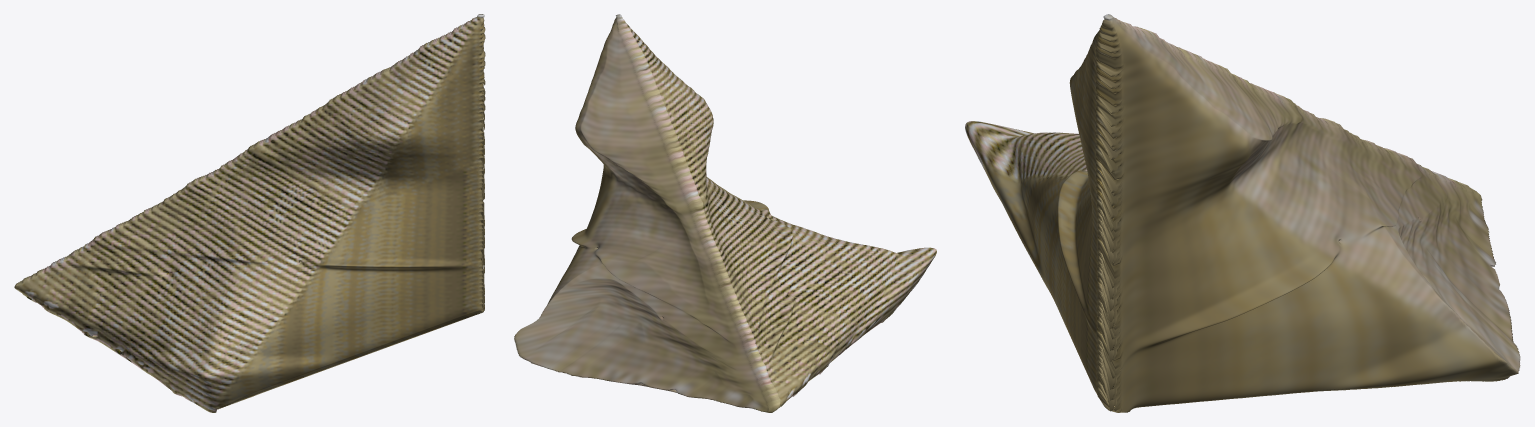
File: great_pyramid.glb
3 views of the same model, side by side, from view 1: azimuth 30°, elevation 25°; view 2: azimuth 150°, elevation 25°; view 3: azimuth 270°, elevation 25° (orthographic). The views are drawn at different scales.
Visible parts, largest first — view 1: great_pyramid; view 2: great_pyramid; view 3: great_pyramid.
Boxes of the visible parts, x1,y1,x2,y2 form: great_pyramid: (14, 14, 485, 412); great_pyramid: (514, 14, 936, 412); great_pyramid: (965, 14, 1520, 412).
Bounding box in the file's own units: 1.8 × 1.51 × 1.92.
